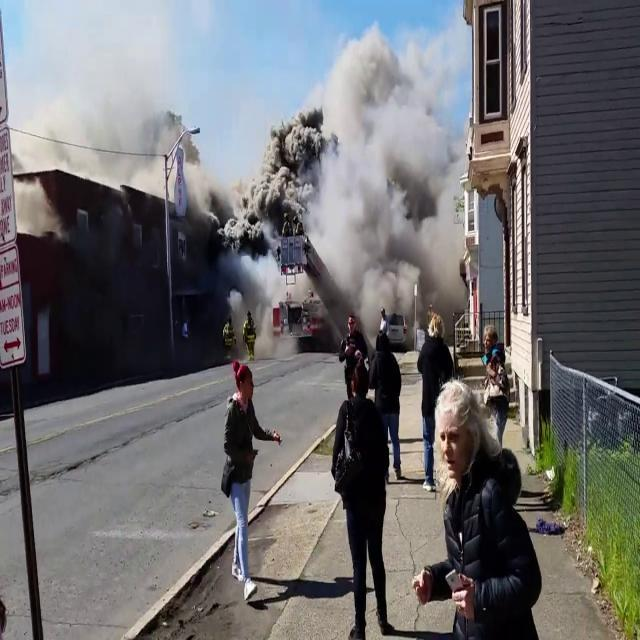Smoke: (296, 2, 472, 324)
